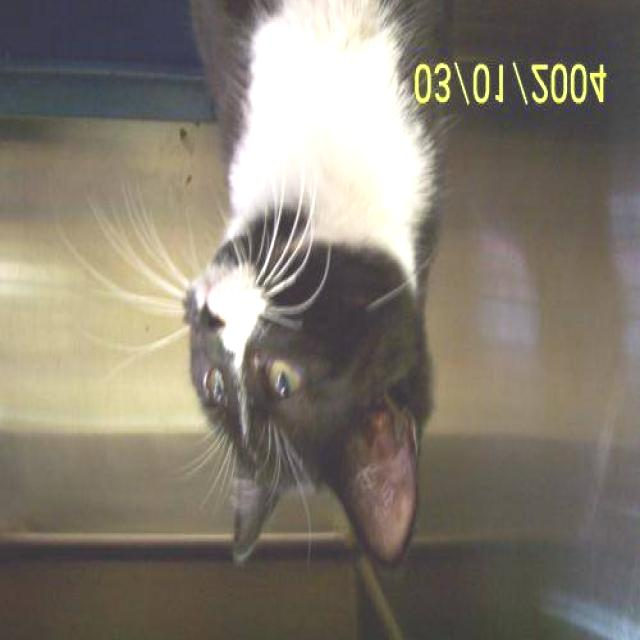Kucing: (146, 145, 487, 626)
